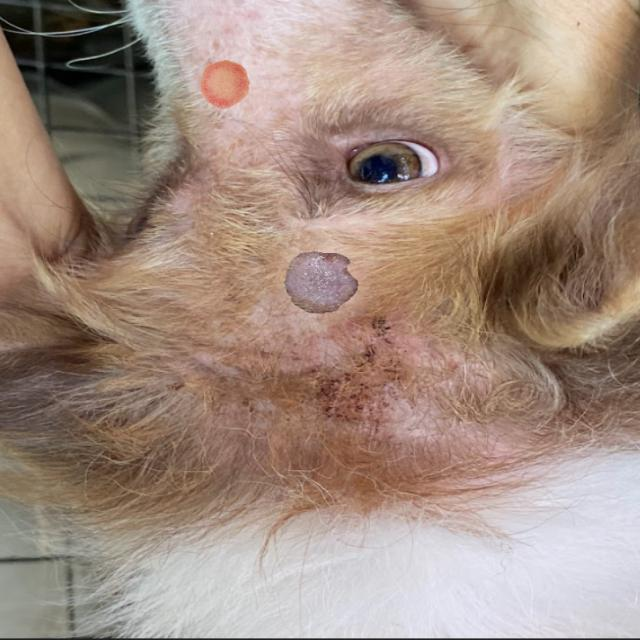ringworm: (260, 241, 372, 328), (170, 56, 279, 117)
